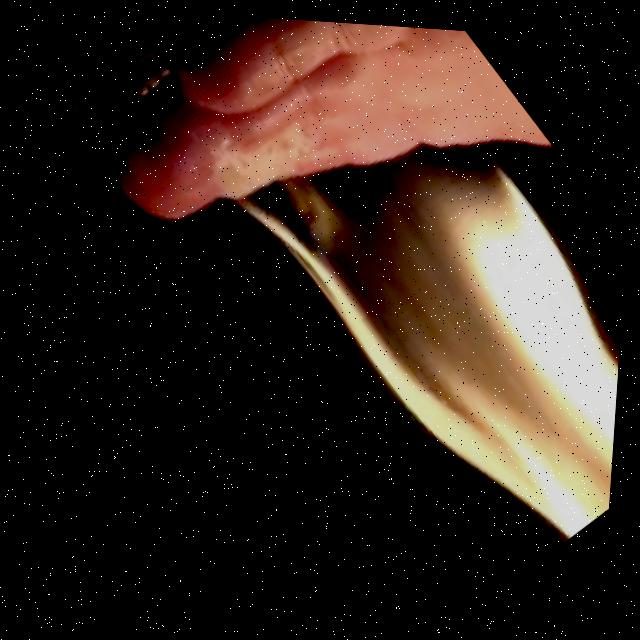Fire: (172, 11, 640, 583)
